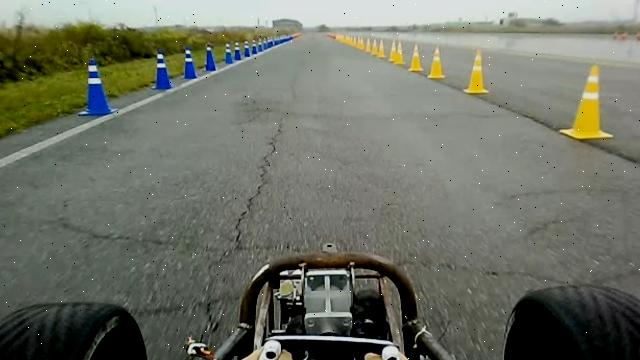blue cone: (77, 57, 118, 116), (150, 49, 173, 90), (181, 47, 198, 79), (203, 43, 217, 72), (224, 42, 233, 64)
yellow cone: (559, 64, 614, 140), (463, 49, 489, 94), (427, 45, 445, 79), (408, 42, 424, 72), (393, 40, 405, 65)
